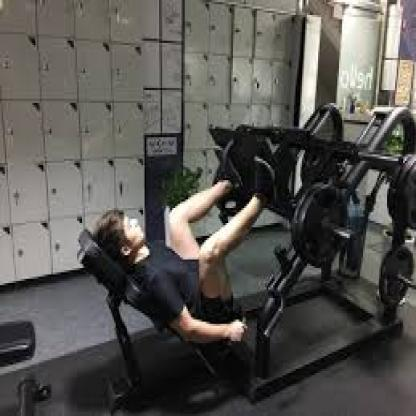leg press: (67, 97, 416, 408)
